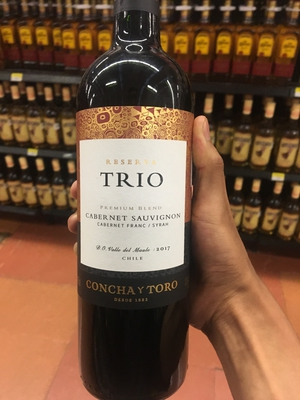trio cabernet sauvignon: (55, 23, 221, 400)
